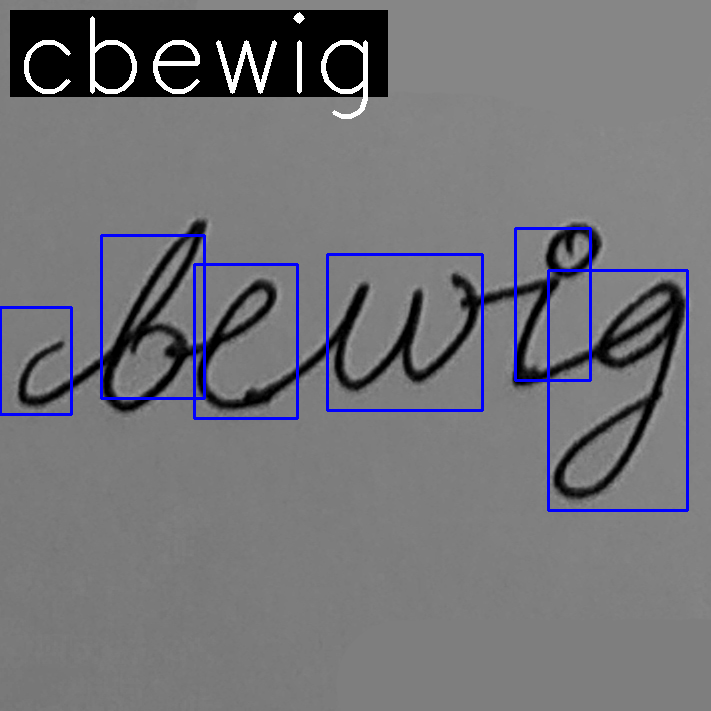b: (98, 216, 210, 416)
e: (193, 275, 292, 414)
g: (548, 276, 688, 504)
i: (504, 218, 607, 393)
w: (329, 267, 481, 393)
